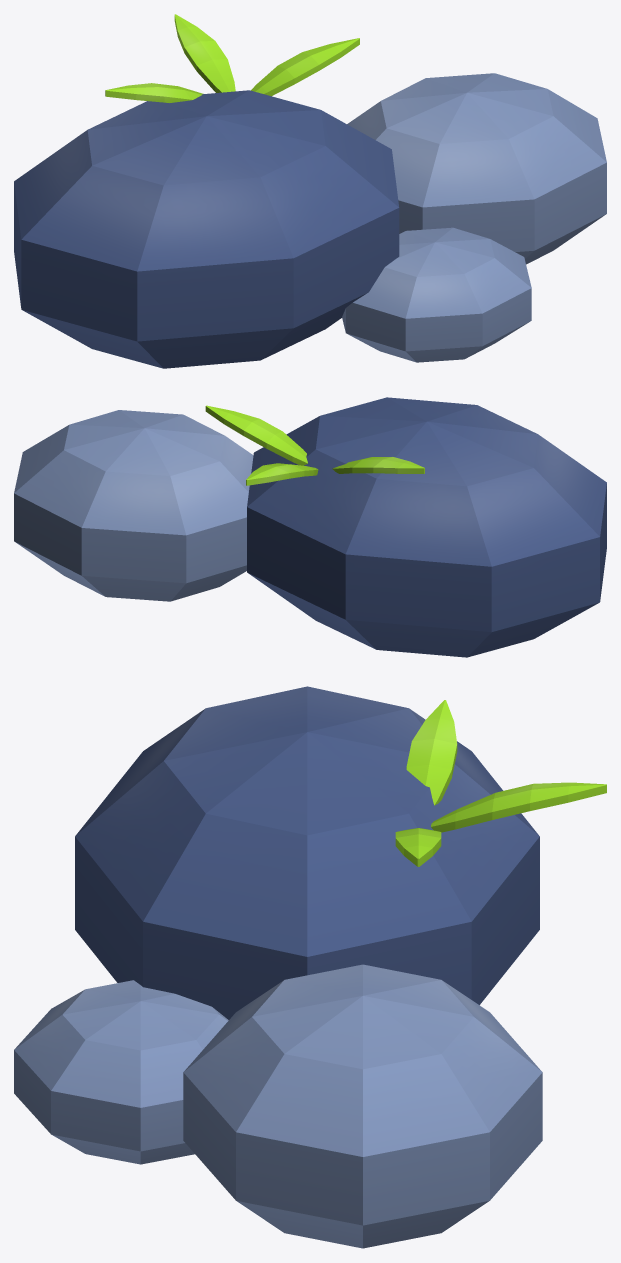
The model's file is ShoreRocks.fbx.
3 renders of one model, top to bottom at view 1: azimuth 30°, elevation 25°; view 2: azimuth 150°, elevation 25°; view 3: azimuth 270°, elevation 25°, orthographic. The views are drawn at different scales.
Visible parts, largest first — view 1: ShoreRocks; view 2: ShoreRocks; view 3: ShoreRocks.
Part boxes in pixels (<box>): ShoreRocks: <box>14,14,606,368</box>; ShoreRocks: <box>14,397,606,657</box>; ShoreRocks: <box>14,686,606,1248</box>.
Size of the model in its own units: 8.27 by 3 by 5.34.
1 material, 1 textured.
